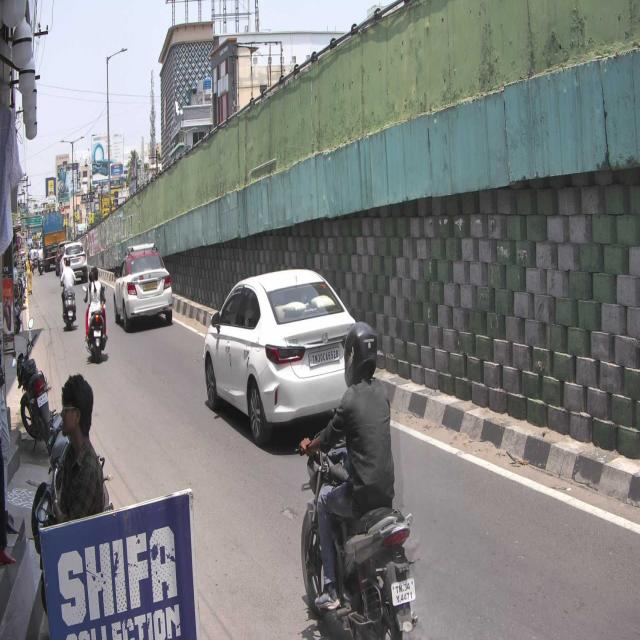single_rider: (295, 316, 417, 640)
